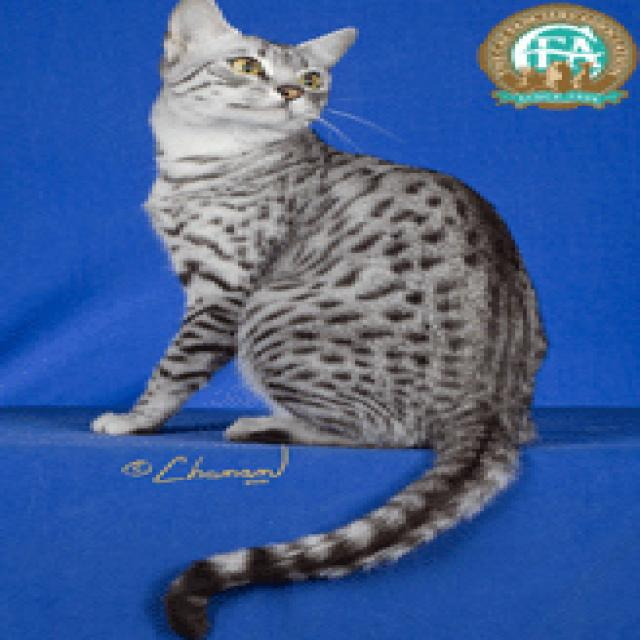Egyptian Mau: (86, 0, 550, 640)
